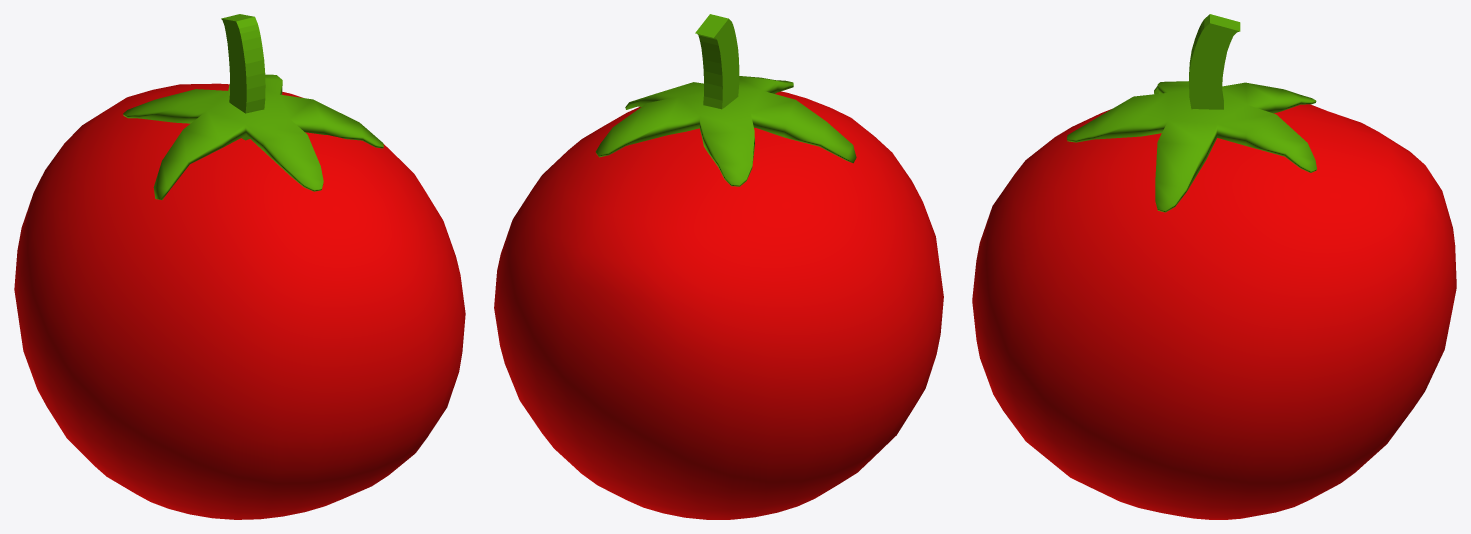
File: tomato.fbx
3 views of the same model, side by side, from view 1: azimuth 30°, elevation 25°; view 2: azimuth 150°, elevation 25°; view 3: azimuth 270°, elevation 25° (orthographic).
Visible parts, largest first — view 1: Sphère, Cylindre.006, Cube; view 2: Sphère, Cylindre.006, Cube; view 3: Sphère, Cylindre.006, Cube.
Part boxes in pixels (bbox=[...]): Sphère: bbox=[14, 83, 465, 519]; Cylindre.006: bbox=[123, 74, 383, 199]; Cube: bbox=[221, 14, 265, 113]; Sphère: bbox=[494, 91, 943, 519]; Cylindre.006: bbox=[595, 76, 856, 186]; Cube: bbox=[695, 14, 739, 109]; Sphère: bbox=[972, 104, 1456, 519]; Cylindre.006: bbox=[1067, 81, 1316, 212]; Cube: bbox=[1189, 14, 1240, 109].
Size of the model in its own units: 321 by 383 by 349.
